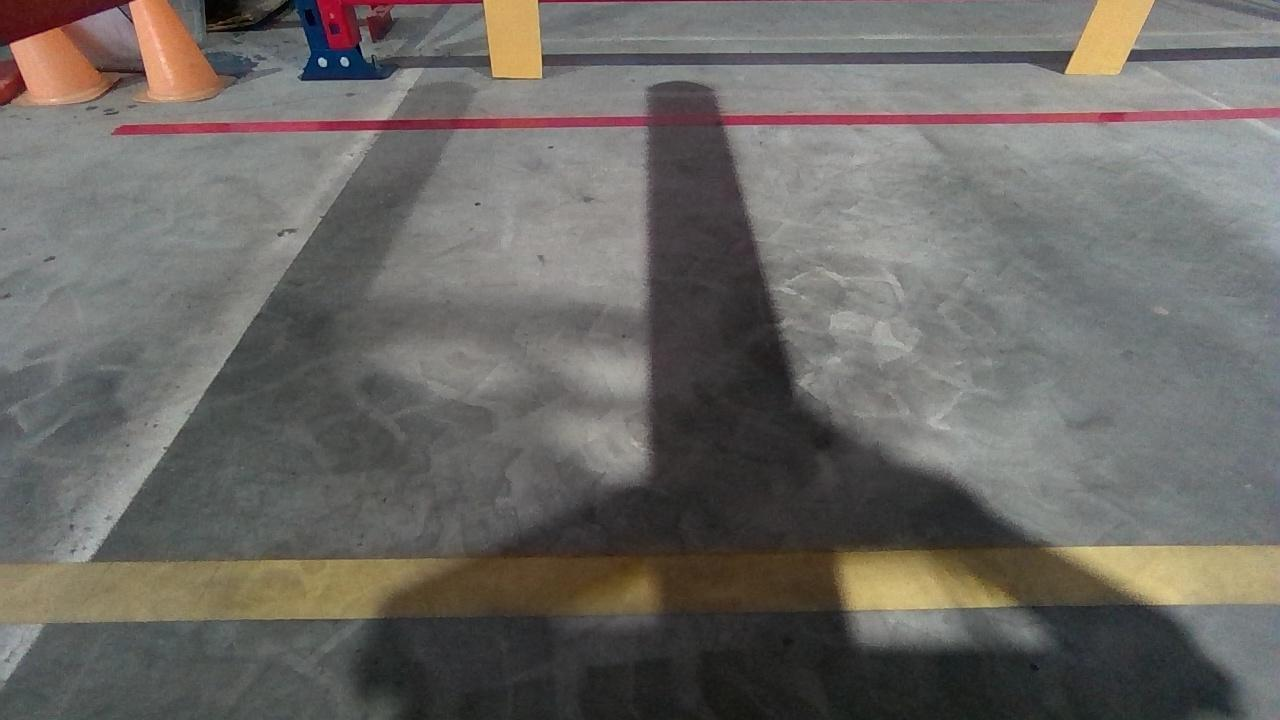red_line: (118, 108, 1279, 132)
yellow_line: (0, 540, 1280, 620)
